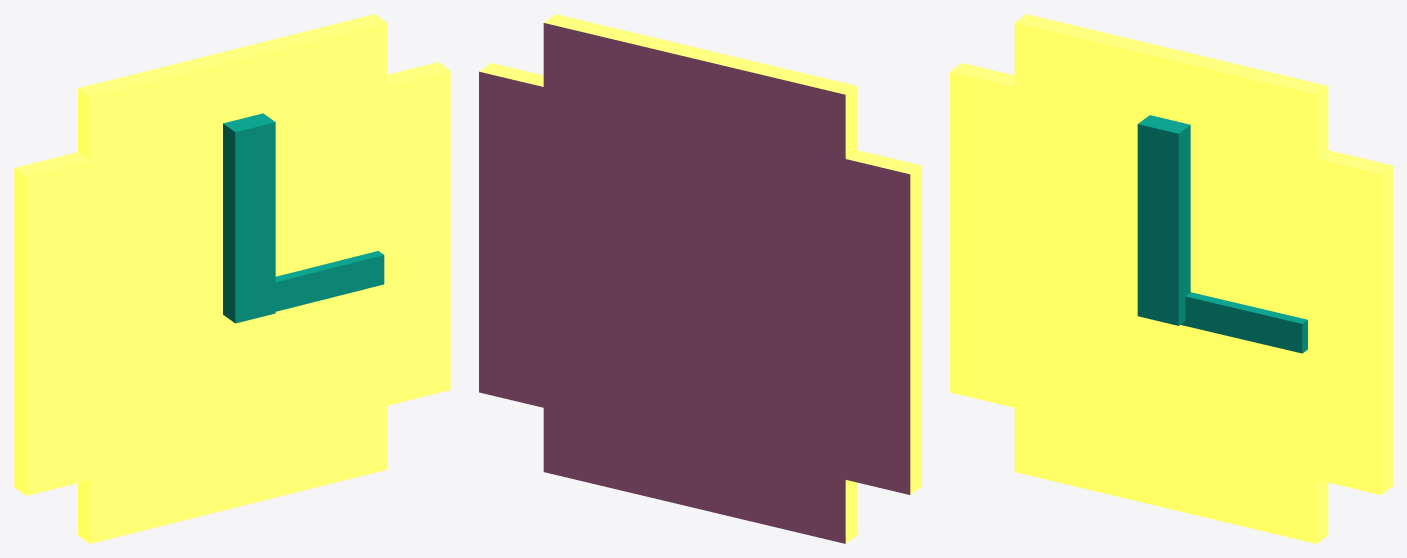
The model's file is Clock.fbx.
3 renders of one model, left to right at view 1: azimuth 30°, elevation 25°; view 2: azimuth 150°, elevation 25°; view 3: azimuth 330°, elevation 25°, orthographic.
Parts seen in each view (by area): view 1: Reloj.001, Cube.100, Cube.101; view 2: Reloj.001; view 3: Reloj.001, Cube.100, Cube.101.
Part boxes in pixels (x1,y1,x2,y2): Reloj.001: [14, 14, 450, 543]; Cube.100: [223, 113, 275, 323]; Cube.101: [275, 251, 384, 311]; Reloj.001: [479, 14, 921, 543]; Reloj.001: [950, 14, 1392, 543]; Cube.100: [1137, 115, 1190, 325]; Cube.101: [1180, 292, 1307, 353].
Bounding box in the file's own units: 25.12 × 25.14 × 2.6.
